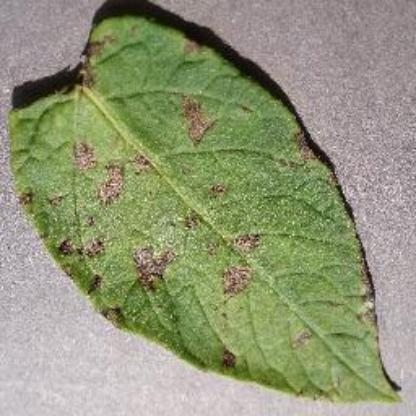Early-Blight: (9, 12, 401, 404)
